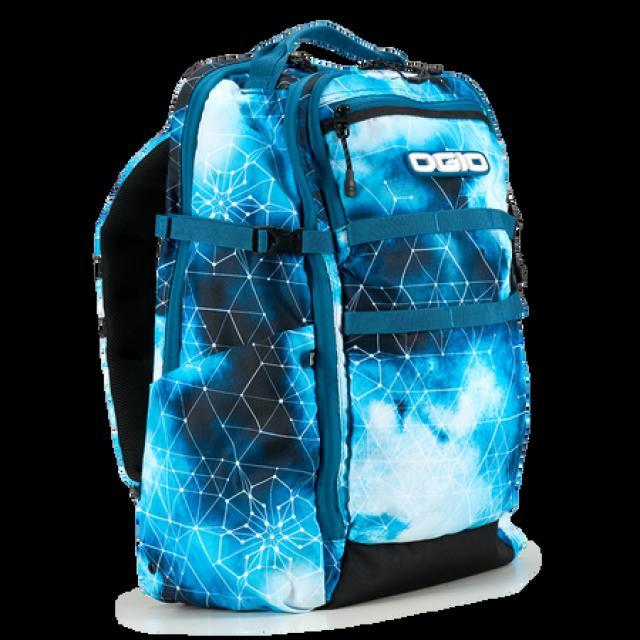Backpacks: (125, 48, 534, 625)
